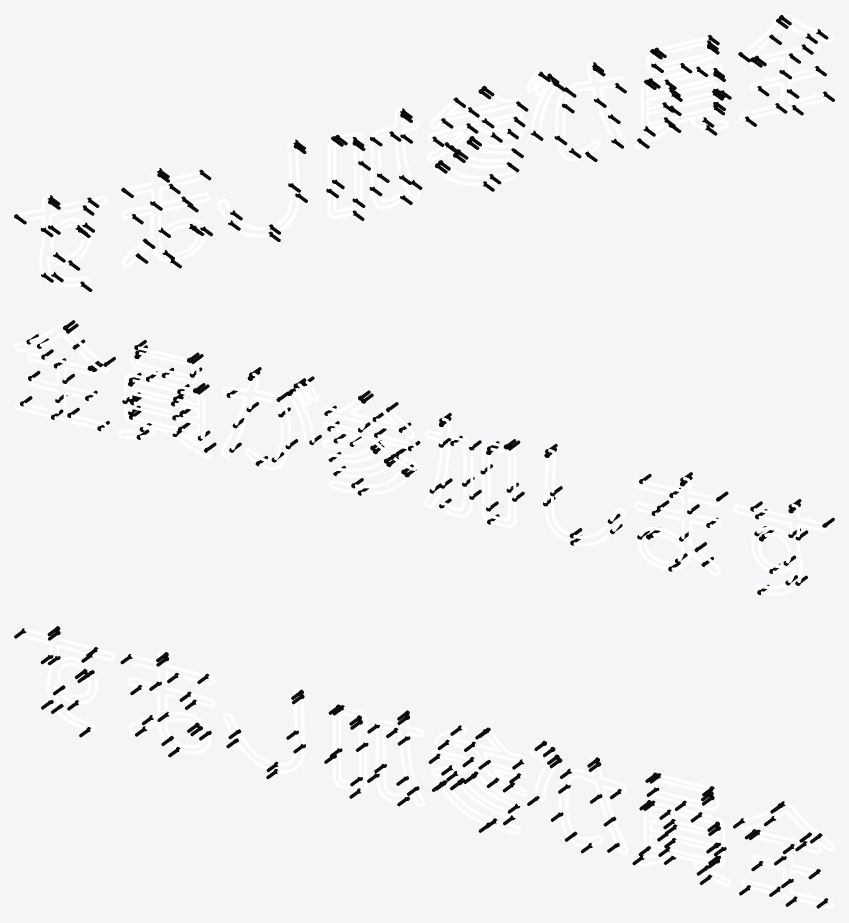
File: neon_zeningasankasimasu.fbx
3 views of the same model, one above another, from view 1: azimuth 30°, elevation 25°; view 2: azimuth 150°, elevation 25°; view 3: azimuth 330°, elevation 25° (orthographic).
Parts seen in each view (by area): view 1: NeonEnglish; view 2: NeonEnglish; view 3: NeonEnglish.
Boxes of the visible parts, x1=… form: NeonEnglish: x1=14, y1=14, x2=834, y2=291; NeonEnglish: x1=14, y1=320, x2=834, y2=595; NeonEnglish: x1=14, y1=624, x2=834, y2=908.
Bounding box in the file's own units: 1026 × 125 × 21.29.
